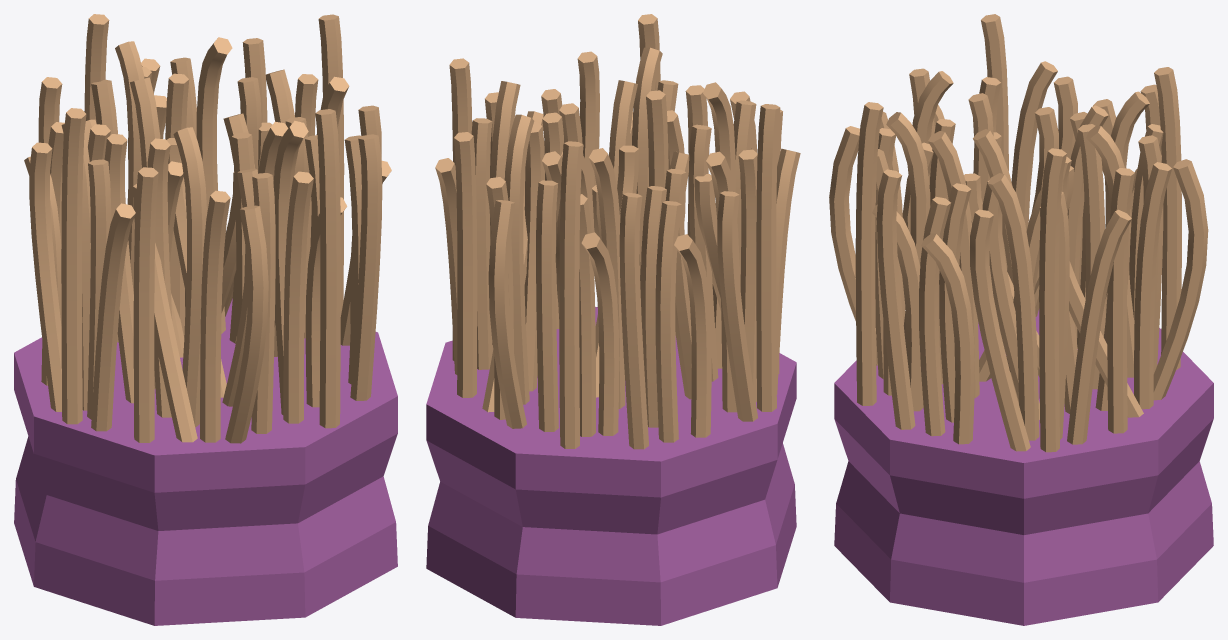
The model's file is Anemone.FBX.
3 views of the same model, side by side, from view 1: azimuth 30°, elevation 25°; view 2: azimuth 150°, elevation 25°; view 3: azimuth 270°, elevation 25° (orthographic). The views are drawn at different scales.
Parts seen in each view (by area): view 1: Anemone; view 2: Anemone; view 3: Anemone.
Boxes of the visible parts, bbox=[...] form: Anemone: bbox=[14, 14, 397, 625]; Anemone: bbox=[426, 14, 800, 625]; Anemone: bbox=[829, 14, 1213, 625].
Bounding box in the file's own units: 9.65 × 12.91 × 9.78.
